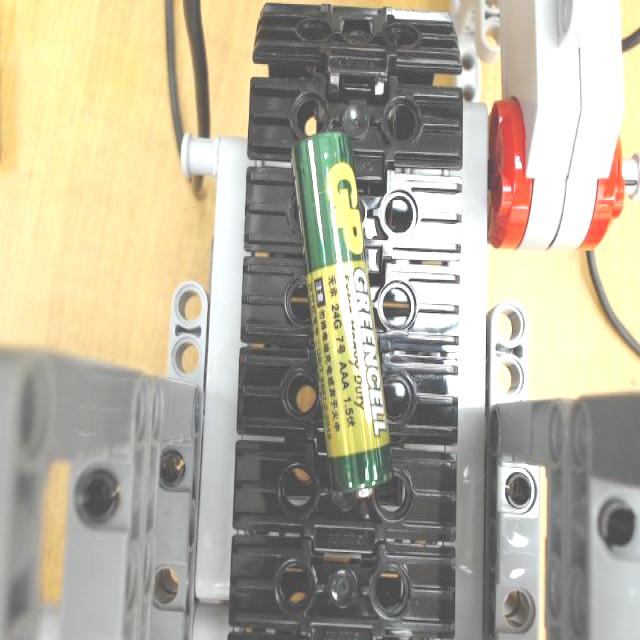AAA: (286, 130, 394, 502)
